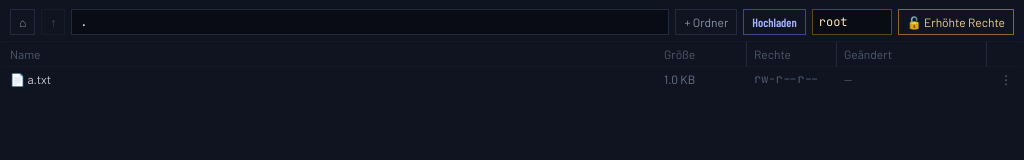
Scenario: FileBrowserPanel elevated mode (Spec 0067, A5) › uses root when no target user is given
Expected: the text "📄 a.txt" is shown, x1=10 y1=72 x2=51 y2=86
Click the button "🔓 Erhöhte Rechte". click: [956, 22]
box: x1=898 y1=8 x2=1014 y2=34
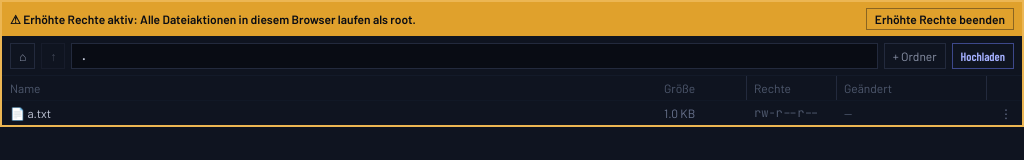
Now the message is shown, box x1=2 y1=2 x2=1022 y2=36
